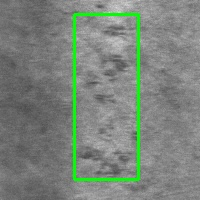rolled-in_scale: (74, 14, 138, 179)
